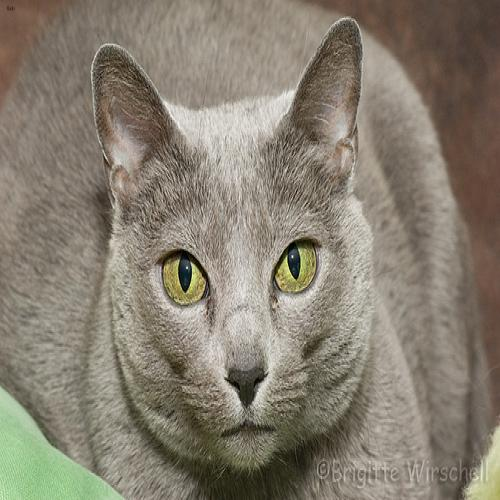rblue: (71, 11, 395, 469)
